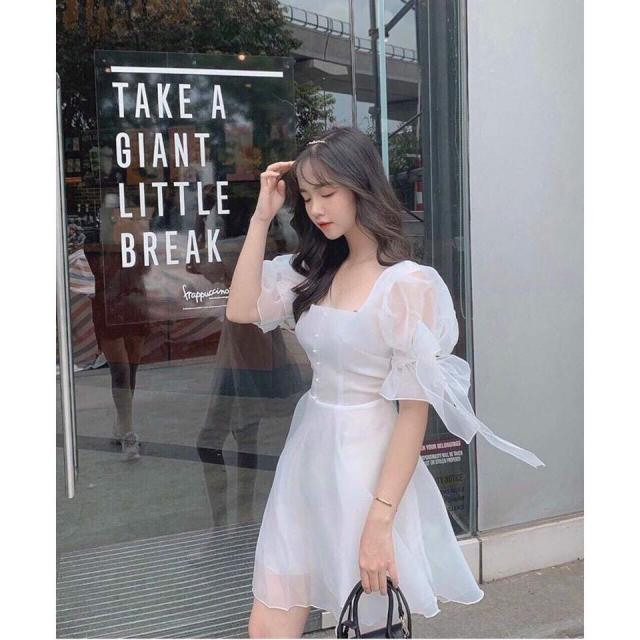clothes: (255, 244, 460, 586)
